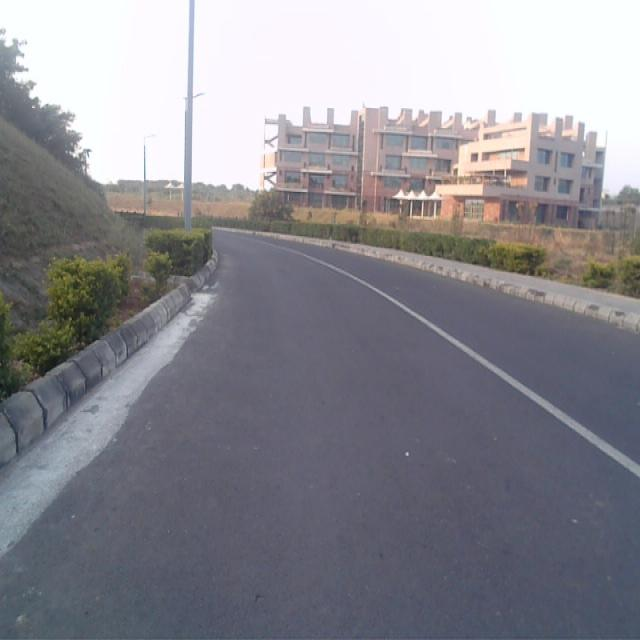lane: (0, 235, 640, 640)
